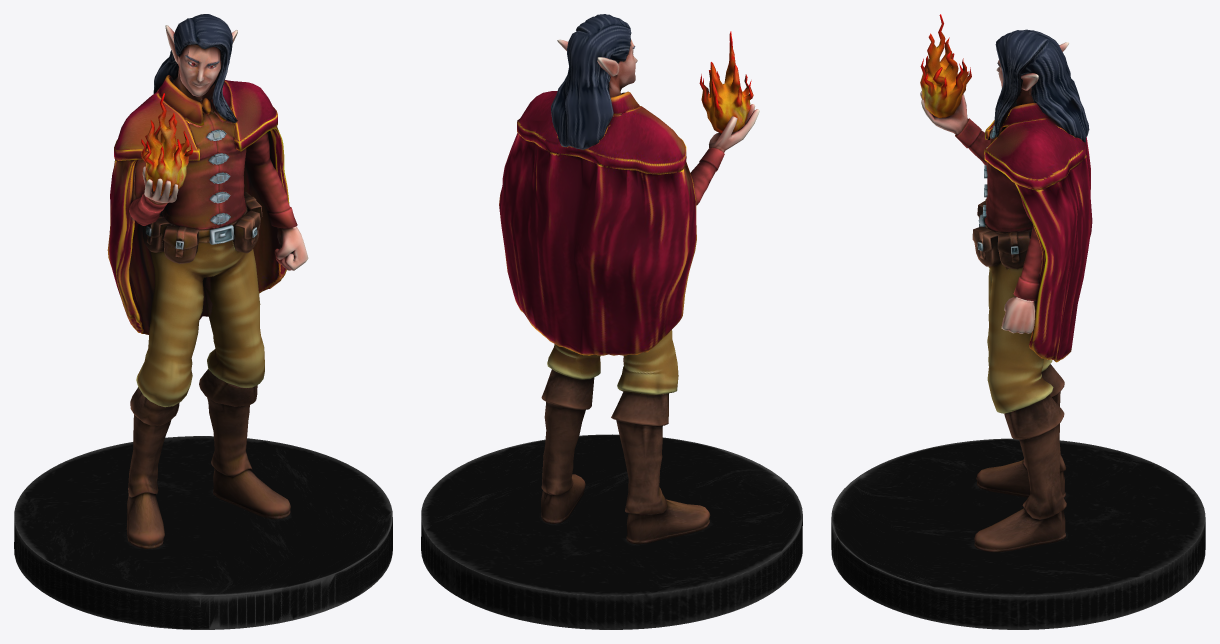
File: MZ4250 - Elf Sorcerer.glb
3 renders of one model, left to right at view 1: azimuth 30°, elevation 25°; view 2: azimuth 150°, elevation 25°; view 3: azimuth 270°, elevation 25°, orthographic. The views are drawn at different scales.
Visible parts, largest first — view 1: body_low.001, base_low.001, pouches_low.001, fire_low.001, buckles_low.001; view 2: body_low.001, base_low.001, fire_low.001; view 3: base_low.001, body_low.001, fire_low.001, pouches_low.001.
Boxes of the visible parts, <box> form: body_low.001: <box>107,14,308,548</box>; base_low.001: <box>14,436,392,629</box>; pouches_low.001: <box>143,191,262,263</box>; fire_low.001: <box>141,93,192,196</box>; buckles_low.001: <box>206,129,230,224</box>; body_low.001: <box>499,14,759,544</box>; base_low.001: <box>421,434,802,629</box>; fire_low.001: <box>699,31,753,133</box>; base_low.001: <box>831,438,1205,629</box>; body_low.001: <box>920,29,1092,552</box>; fire_low.001: <box>920,14,971,117</box>; pouches_low.001: <box>972,198,1030,269</box>.
Size of the model in its own units: 5.21 by 8.01 by 5.21.
1 material, 1 textured.
